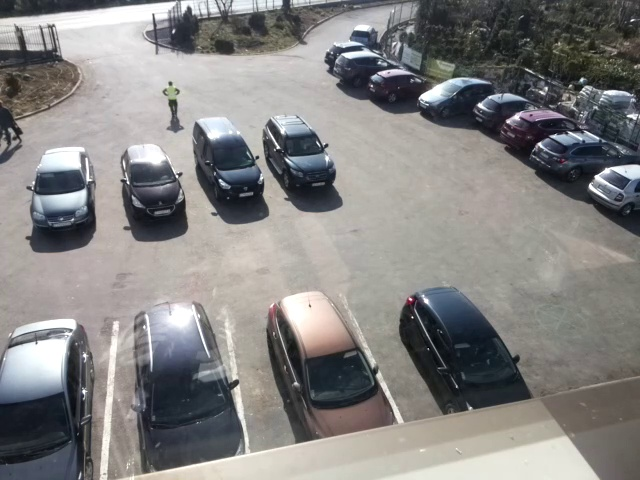car: (266, 291, 395, 441), (135, 301, 245, 472), (401, 287, 533, 414), (1, 319, 93, 480), (194, 116, 265, 201), (527, 133, 638, 182), (264, 115, 337, 189), (31, 148, 94, 233), (122, 144, 185, 220), (500, 111, 588, 154), (417, 77, 495, 117), (472, 91, 542, 133), (588, 164, 640, 217), (333, 52, 405, 87), (370, 70, 434, 102), (324, 43, 383, 67), (348, 23, 382, 50)
